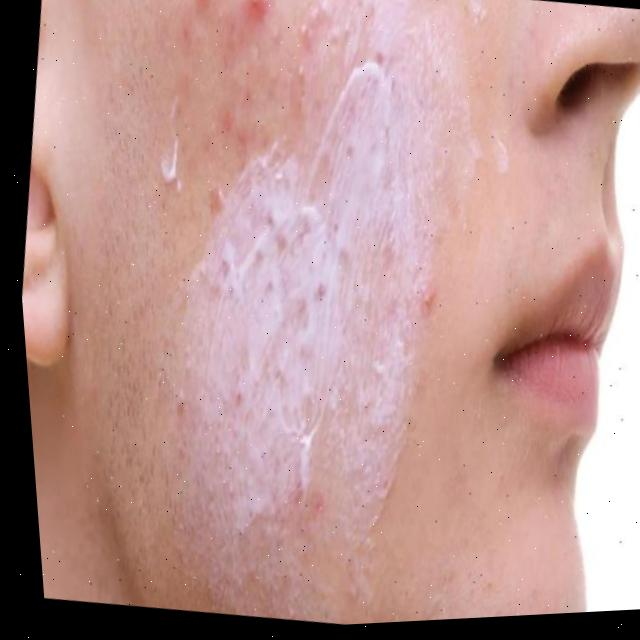Acne: (80, 0, 497, 627)
